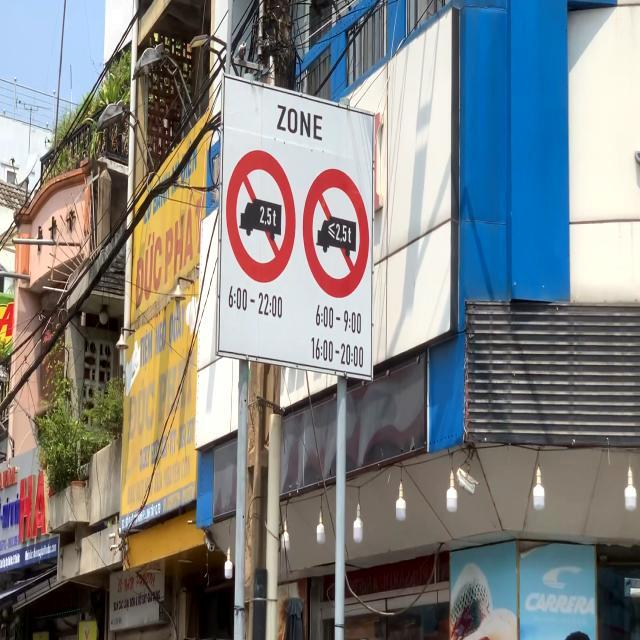Cam xe tai tren 2_5: (226, 148, 296, 284), (302, 168, 370, 299)
